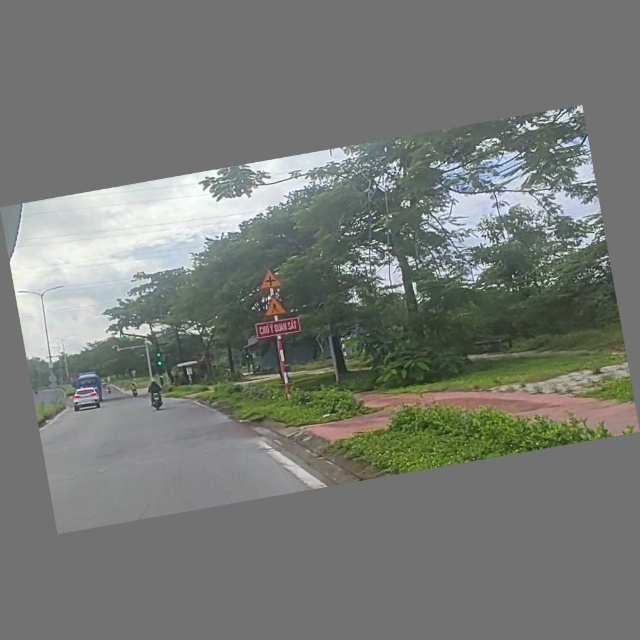W.205a: (258, 268, 284, 291)
W.224: (261, 293, 291, 319)
